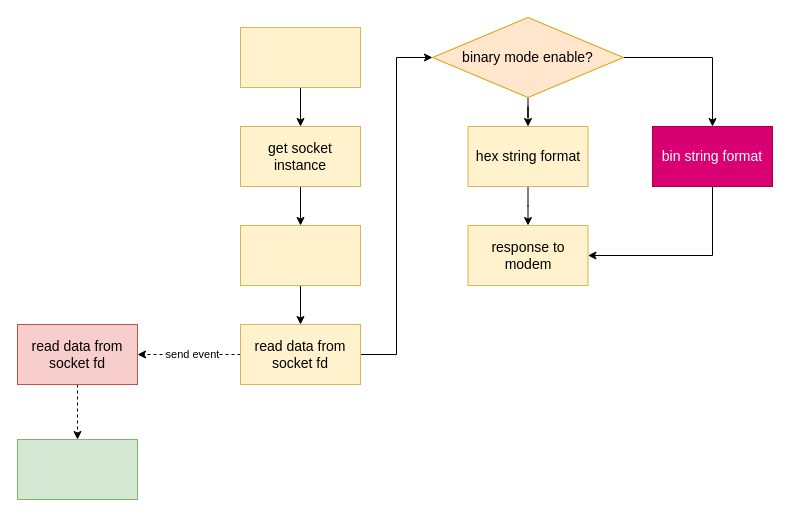
Image size: 790x517. Some labels were removed from this diagram. The centre of each missing label's shape, as x and y in pixels:
get arguments: (300,255)
update monitor: (77,469)
write mode: (300,57)
